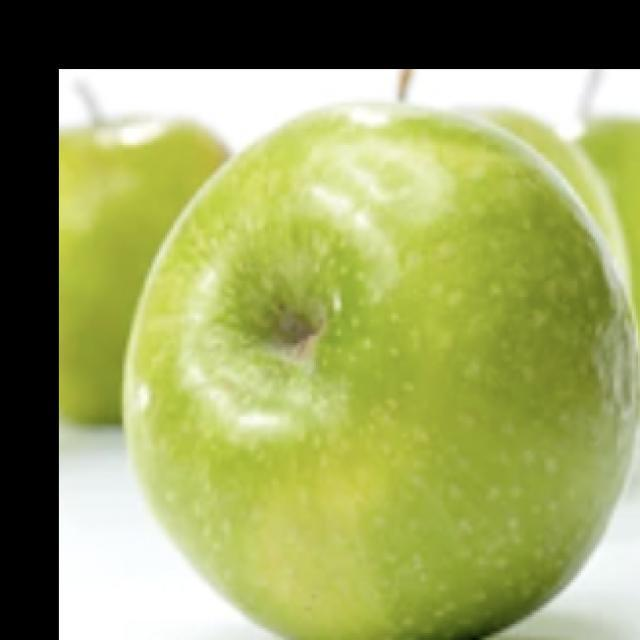Fresh Apple: (118, 84, 640, 640)
